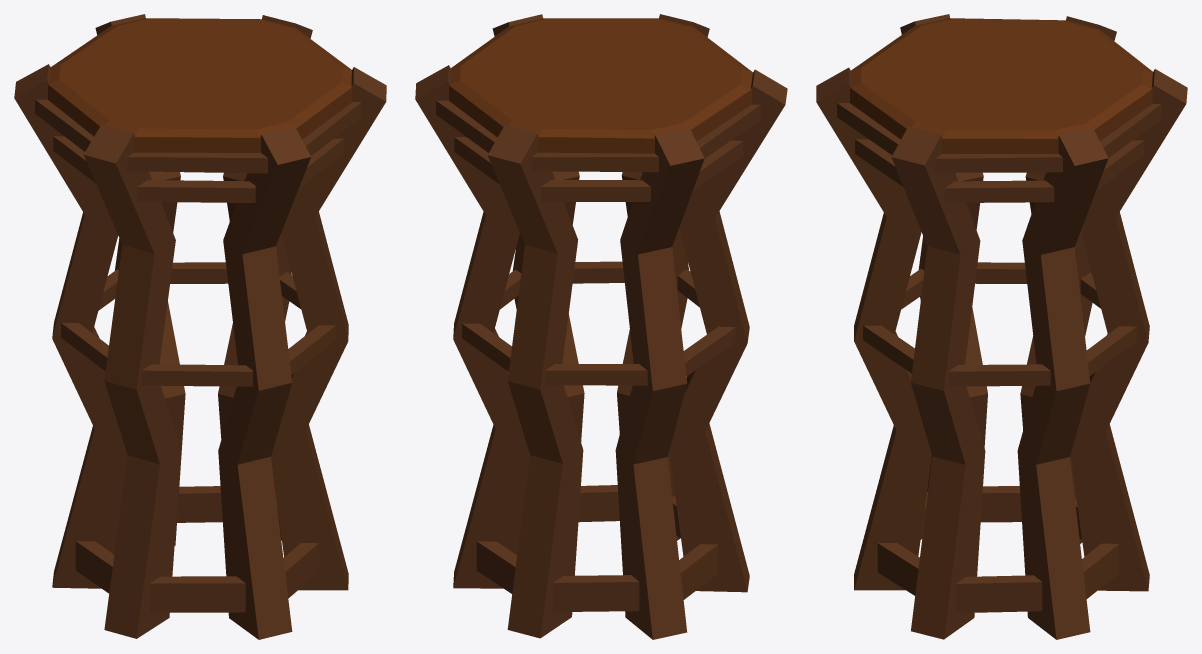
The model's file is RoundWoodenTower.fbx.
3 views of the same model, side by side, from view 1: azimuth 30°, elevation 25°; view 2: azimuth 150°, elevation 25°; view 3: azimuth 270°, elevation 25° (orthographic).
Visible parts, largest first — view 1: WoodBaseRound_LOD0; view 2: WoodBaseRound_LOD0; view 3: WoodBaseRound_LOD0.
Part boxes in pixels (left/top/right/bottom): WoodBaseRound_LOD0: left=14, top=14, right=386, bottom=639; WoodBaseRound_LOD0: left=415, top=14, right=787, bottom=639; WoodBaseRound_LOD0: left=816, top=14, right=1187, bottom=639.
Size of what is drawn, in the model's own units: 480 by 777 by 516.
